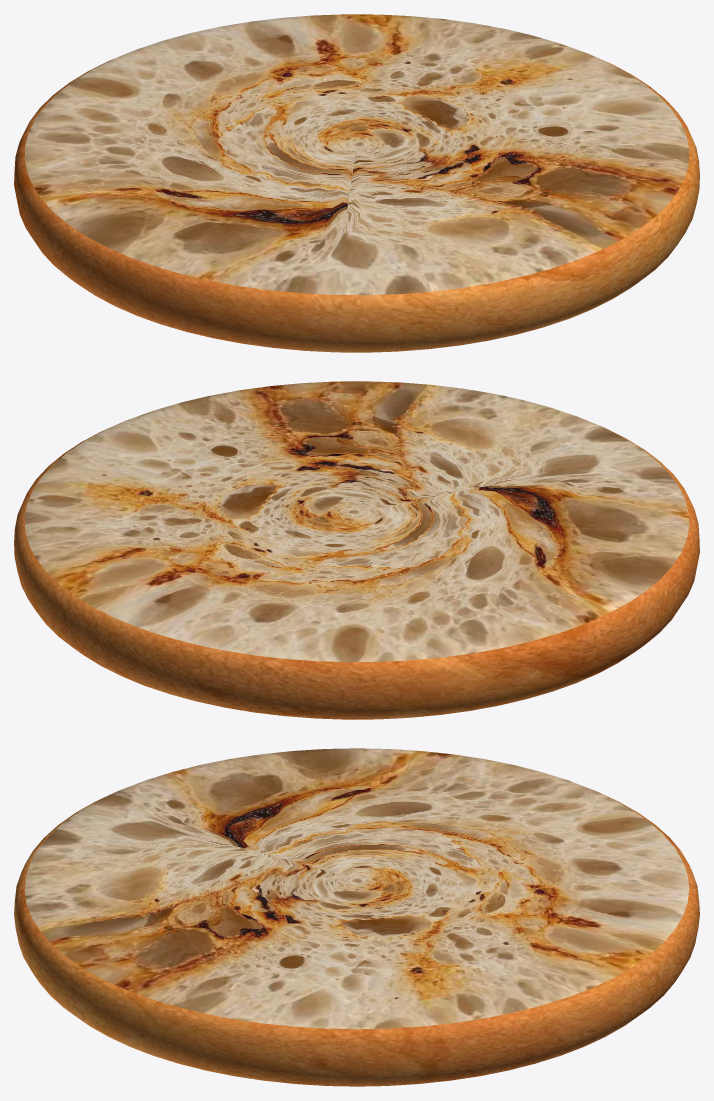
File: bun_down.gltf
3 renders of one model, top to bottom at view 1: azimuth 30°, elevation 25°; view 2: azimuth 150°, elevation 25°; view 3: azimuth 270°, elevation 25°, orthographic.
Parts seen in each view (by area): view 1: Cylinder; view 2: Cylinder; view 3: Cylinder.
Boxes of the visible parts, left/top/right/bottom form: Cylinder: left=14, top=14, right=699, bottom=352; Cylinder: left=14, top=381, right=699, bottom=719; Cylinder: left=14, top=748, right=699, bottom=1086.
Size of the model in its own units: 6.15 by 0.806 by 6.15.
2 materials, 2 textured.
